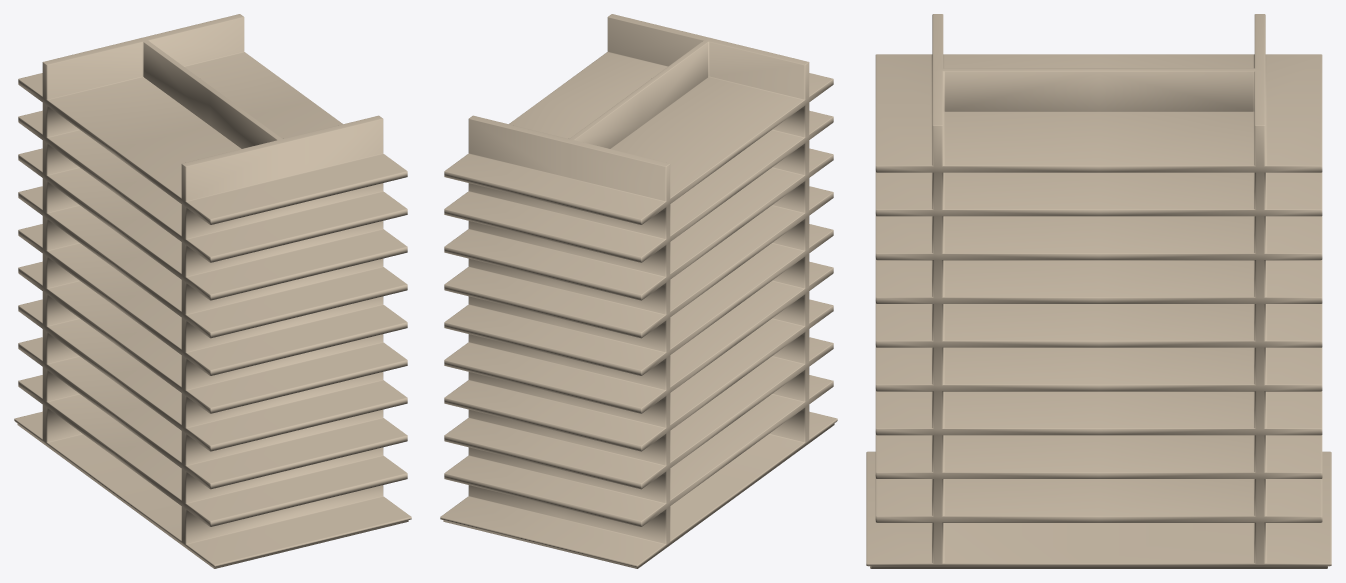
File: Shelf08.fbx
3 renders of one model, left to right at view 1: azimuth 30°, elevation 25°; view 2: azimuth 150°, elevation 25°; view 3: azimuth 270°, elevation 25°, orthographic. The views are drawn at different scales.
Parts seen in each view (by area): view 1: Regal3_vierseitig; view 2: Regal3_vierseitig; view 3: Regal3_vierseitig.
Part boxes in pixels (box(x1,y1,x2,y2)): Regal3_vierseitig: box(14, 14, 411, 568); Regal3_vierseitig: box(440, 14, 837, 568); Regal3_vierseitig: box(866, 14, 1331, 568).
Bounding box in the file's own units: 529 × 979 × 929.
